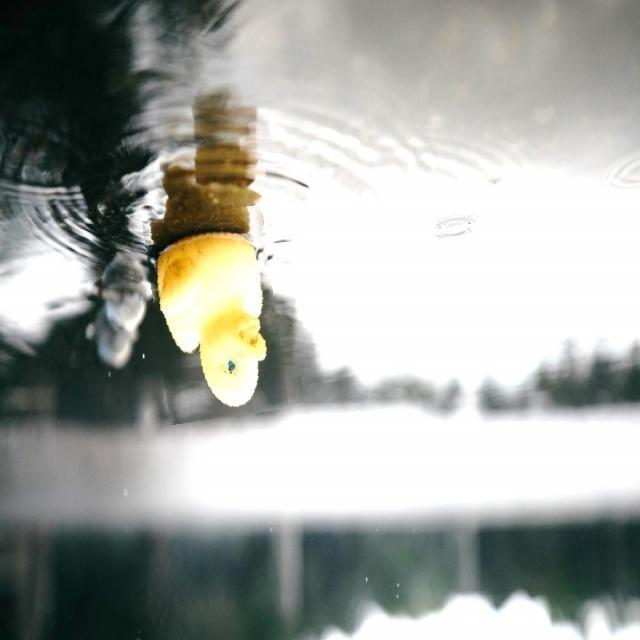rubber-duck: (156, 231, 264, 405)
